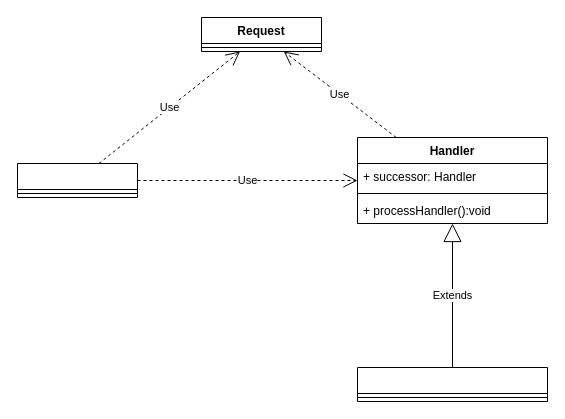
The diagram is 565 pixels wide and 419 high, and some of its shapes have lost their labels. Each missing label, with the box of its shape:
Client: (16, 162, 138, 198)
ConcreteHandler: (356, 366, 548, 402)
